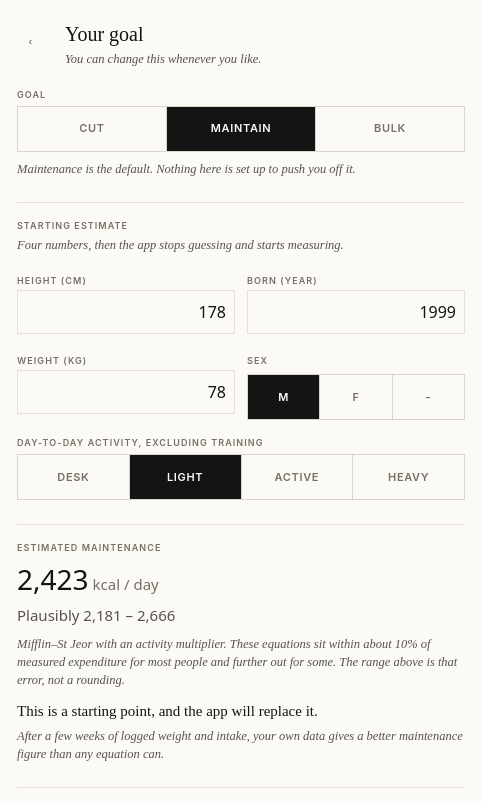
it: GoalSetup — GR-1 in the control, not in a warning › caps the deficit slider so it stops rather than clamping back afterwards
Check: the element with test id "maintenance-estimate" is shown, box [17,560,159,598]
Step 1. Click the button with test id "goal-cut" → (92, 129), box [18,107,166,151]
(page scrolled)
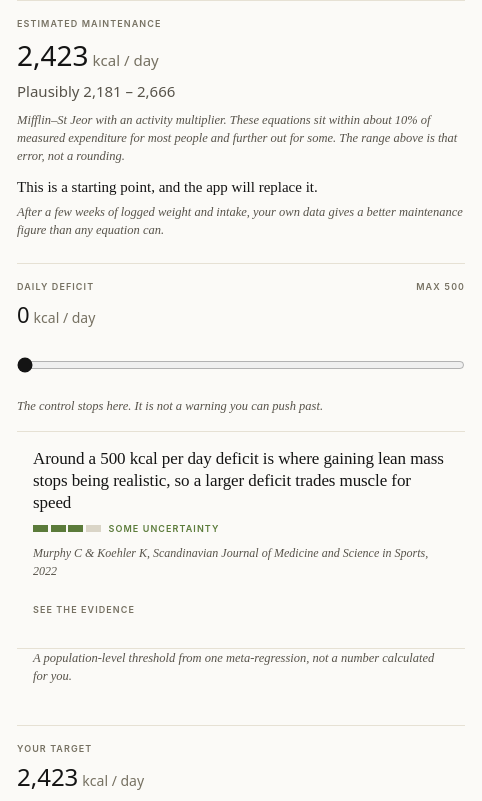
Check: the text "not a warning you can push past" is shown, box [17,399,323,413]
